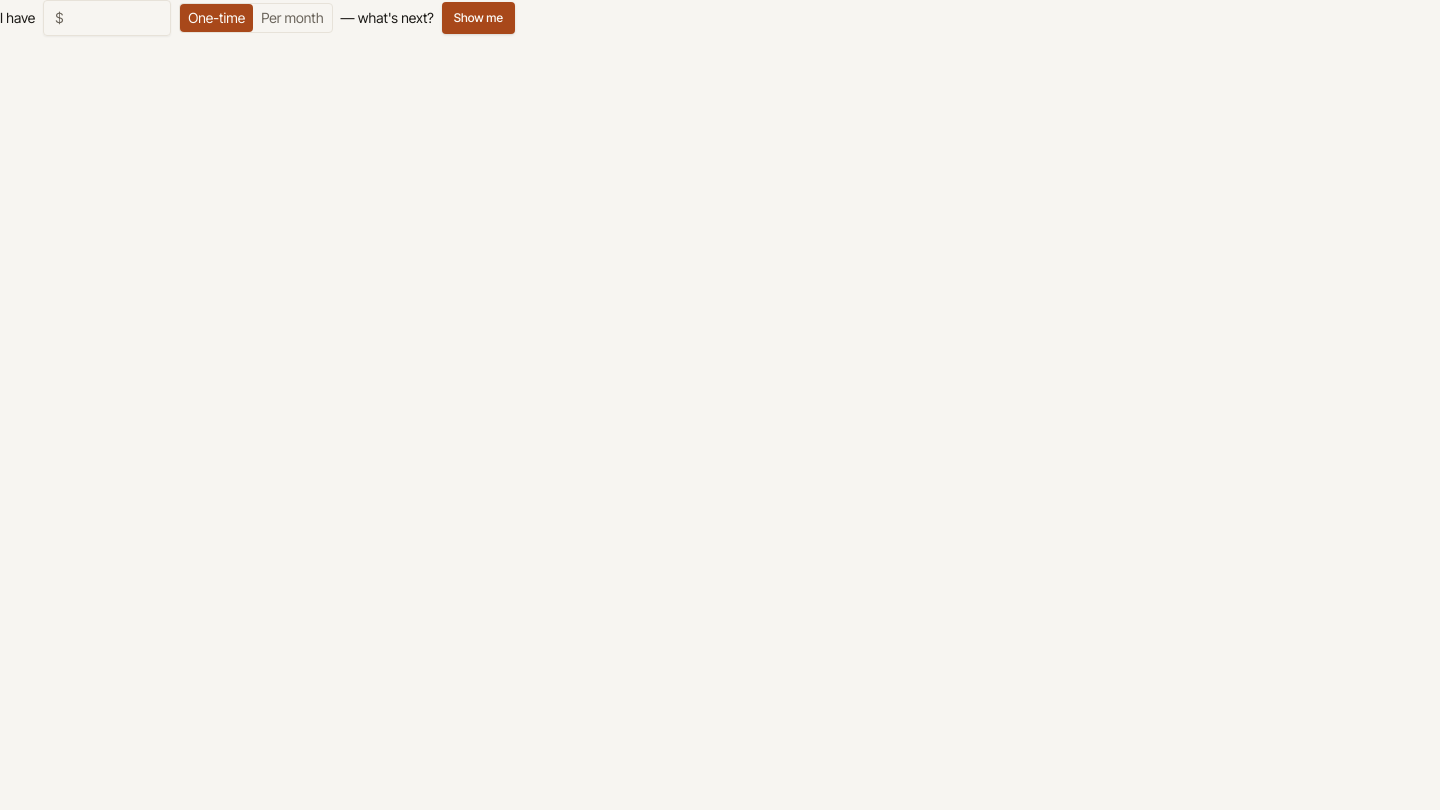
QuestionBar › first submission behind the gate: unaccepted interview disclosure opens the modal; accept proceeds
The image size is (1440, 810).
Type "10000" into the field named "Amount" at (107, 18), box [43,0,171,36]
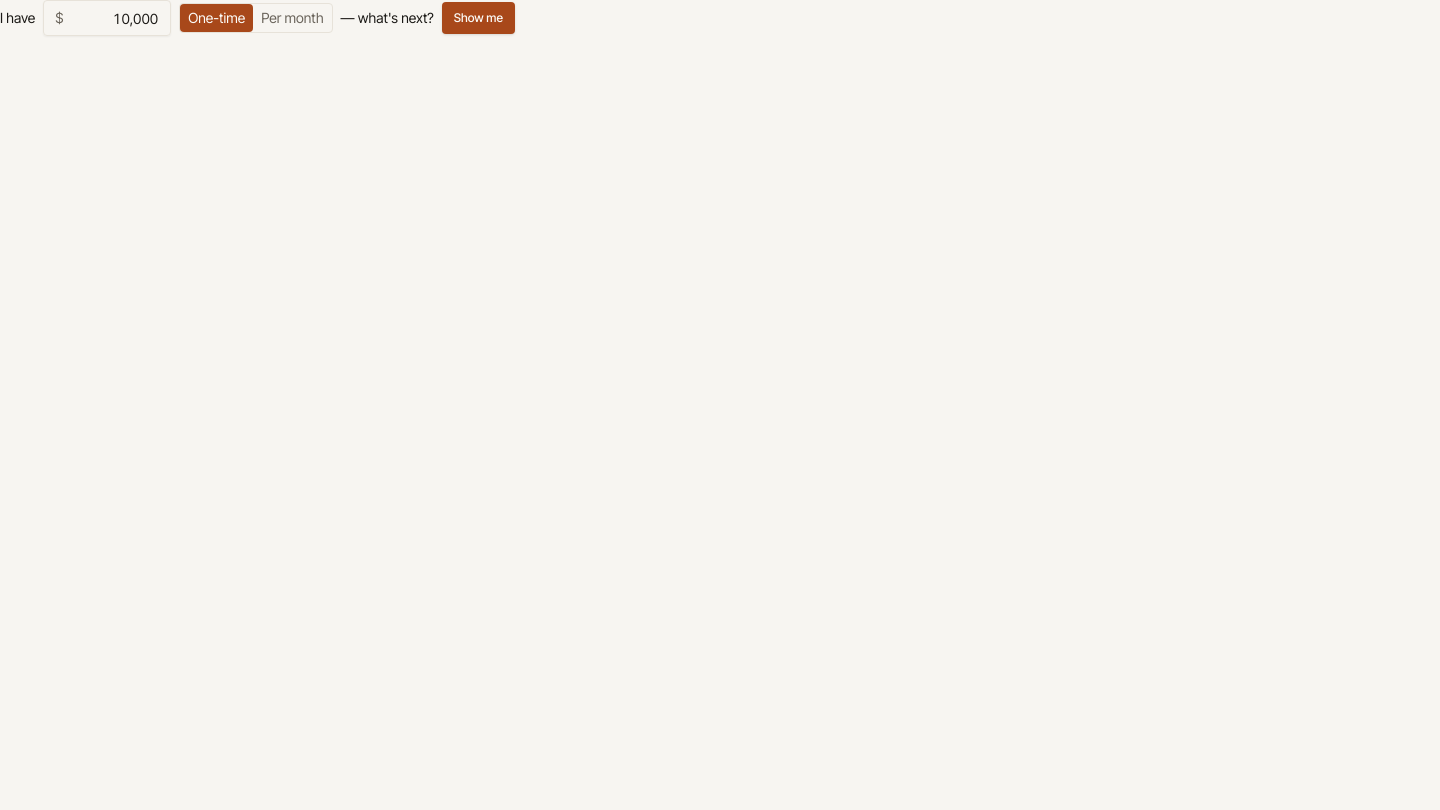
Click the button "Show me" at (478, 18), box [442,2,515,34]
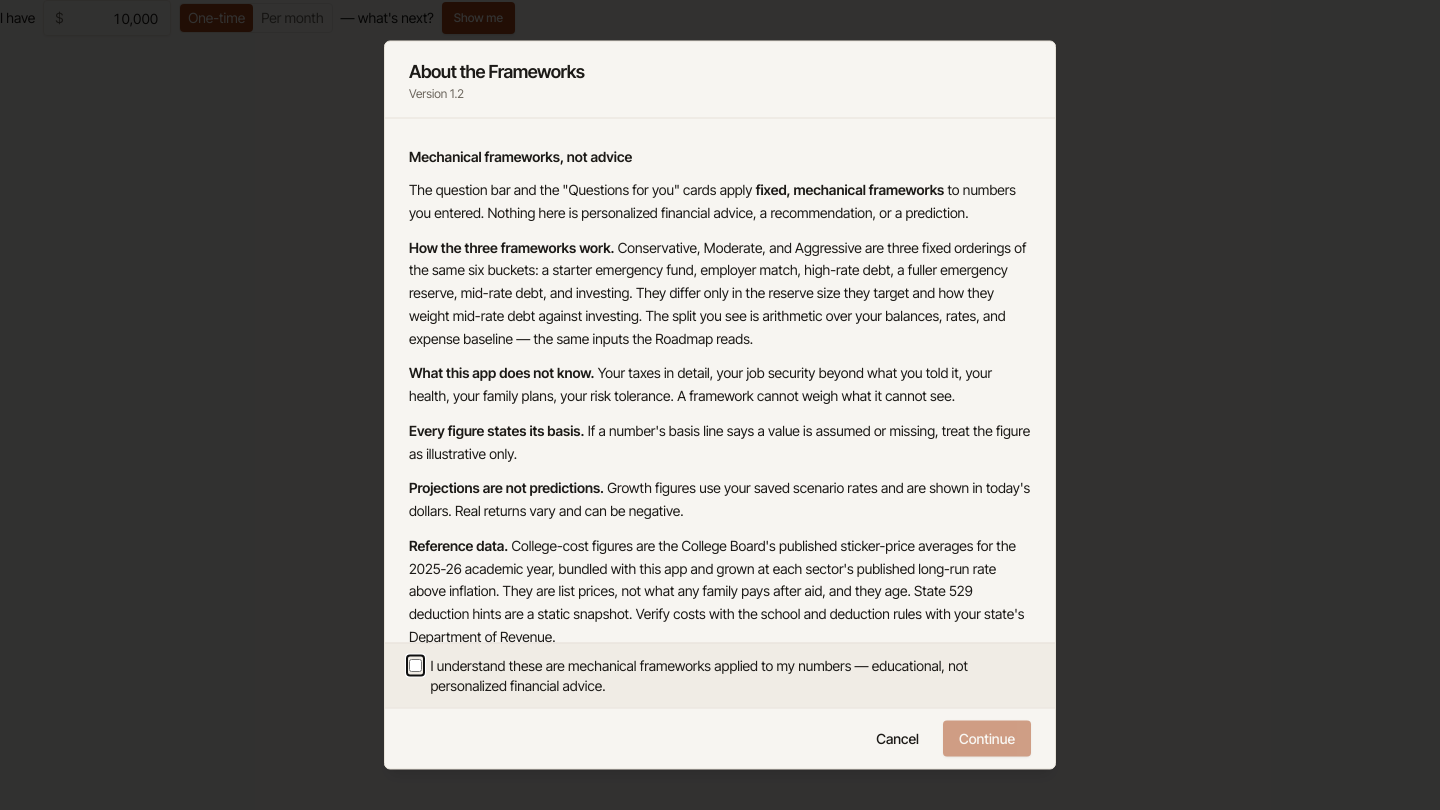
Now the heading "About the Frameworks" is shown, box [409,60,584,82]
